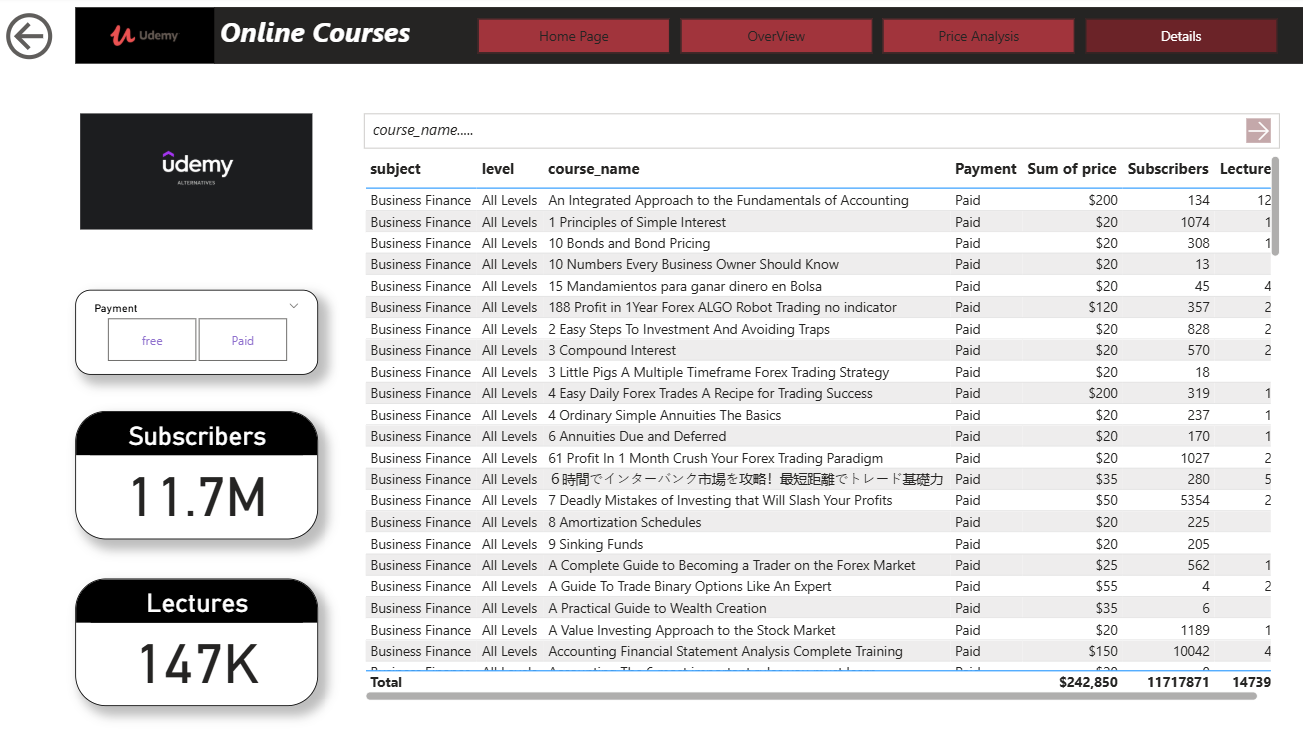

Layout of this report page (visuals, bound fields, positions):
{"tool":"powerbi","page":{"name":"Details","canvas":[1280,720],"ordinal":3},"visuals":[{"type":"tableEx","fields":{"Values":["udemy.subject","udemy.level","udemy.course_name","udemy.Payment","Sum(udemy.price)","udemy.Subscribers","udemy.Lectures"]},"box":[352.2,151.6,906.1,542.9],"z":0},{"type":"card","title":"Lectures","fields":{"Values":["udemy.Lectures"]},"box":[74.6,569.8,237.2,124.7],"z":1000},{"type":"slicer","fields":{"Values":["udemy.Payment"]},"box":[74.6,287.4,237.2,83.2],"z":2000},{"type":"actionButton","box":[1.2,10.8,100,56.6],"z":3000},{"type":"card","title":"Subscribers","fields":{"Values":["udemy.Subscribers"]},"box":[74.6,406,237.2,126],"z":4000},{"type":"textbox","box":[210.8,10.8,1068.7,55.4],"z":5000},{"type":"image","box":[74.7,10.8,136.1,55.4],"z":6000},{"type":"textSlicer","fields":{"Values":["udemy.course_name"]},"box":[352.2,110.1,906.1,44],"z":7000},{"type":"image","box":[74.6,110.1,237.2,123.5],"z":8000},{"type":"pageNavigator","box":[468.3,22,785.1,34.2],"z":9000}]}

Visuals, with their boxes in screenshot pixels (x1, y1, x2, y2), scaled from the page's 1280x720 canvas onto the 1303x729 screenshot:
tableEx - udemy.subject x udemy.level: <box>359,153,1281,703</box>
"Lectures" card: <box>76,577,317,703</box>
slicer - udemy.Payment: <box>76,291,317,375</box>
actionButton: <box>1,11,103,68</box>
"Subscribers" card: <box>76,411,317,539</box>
textbox: <box>215,11,1302,67</box>
image: <box>76,11,215,67</box>
textSlicer - udemy.course_name: <box>359,111,1281,156</box>
image: <box>76,111,317,237</box>
pageNavigator: <box>477,22,1276,57</box>
